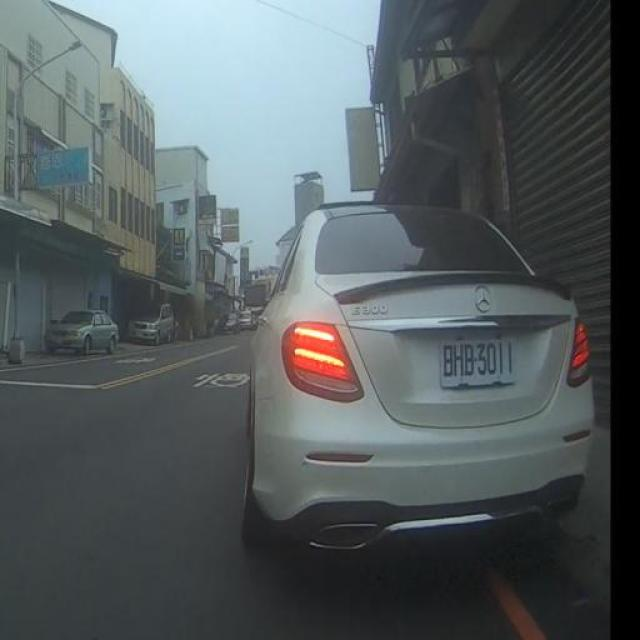Legalparking: (45, 311, 119, 354), (126, 304, 176, 344), (219, 309, 255, 331)
illegalparking: (242, 205, 594, 548)
